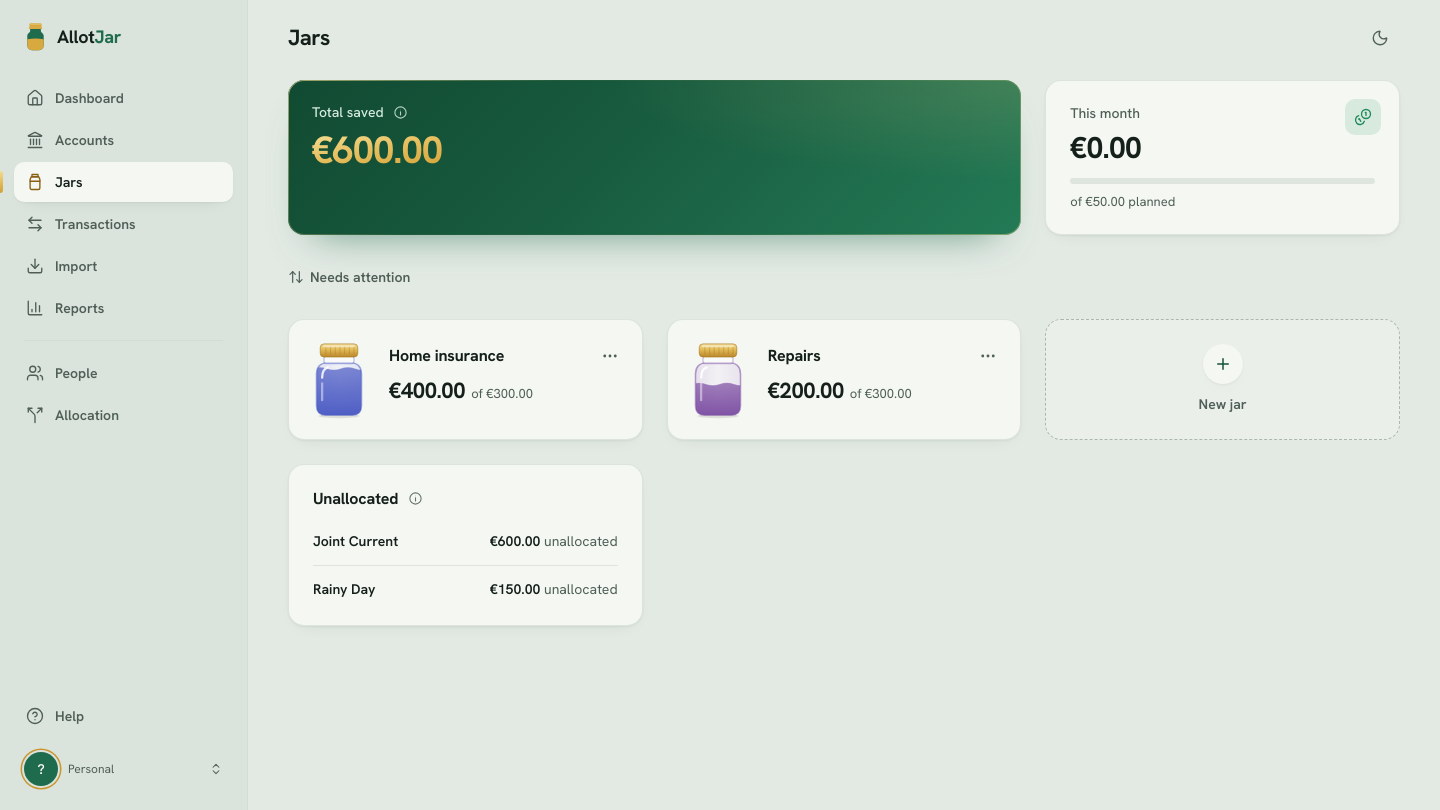
Test: JarsPage — Move money across accounts (rule 80) › shows the server's message verbatim when the transfer is refused (rules 68/74)
This screenshot has width=1440, height=810.
Click the button named "Home insurance: more actions": [610, 356] box [590,336,630,376]
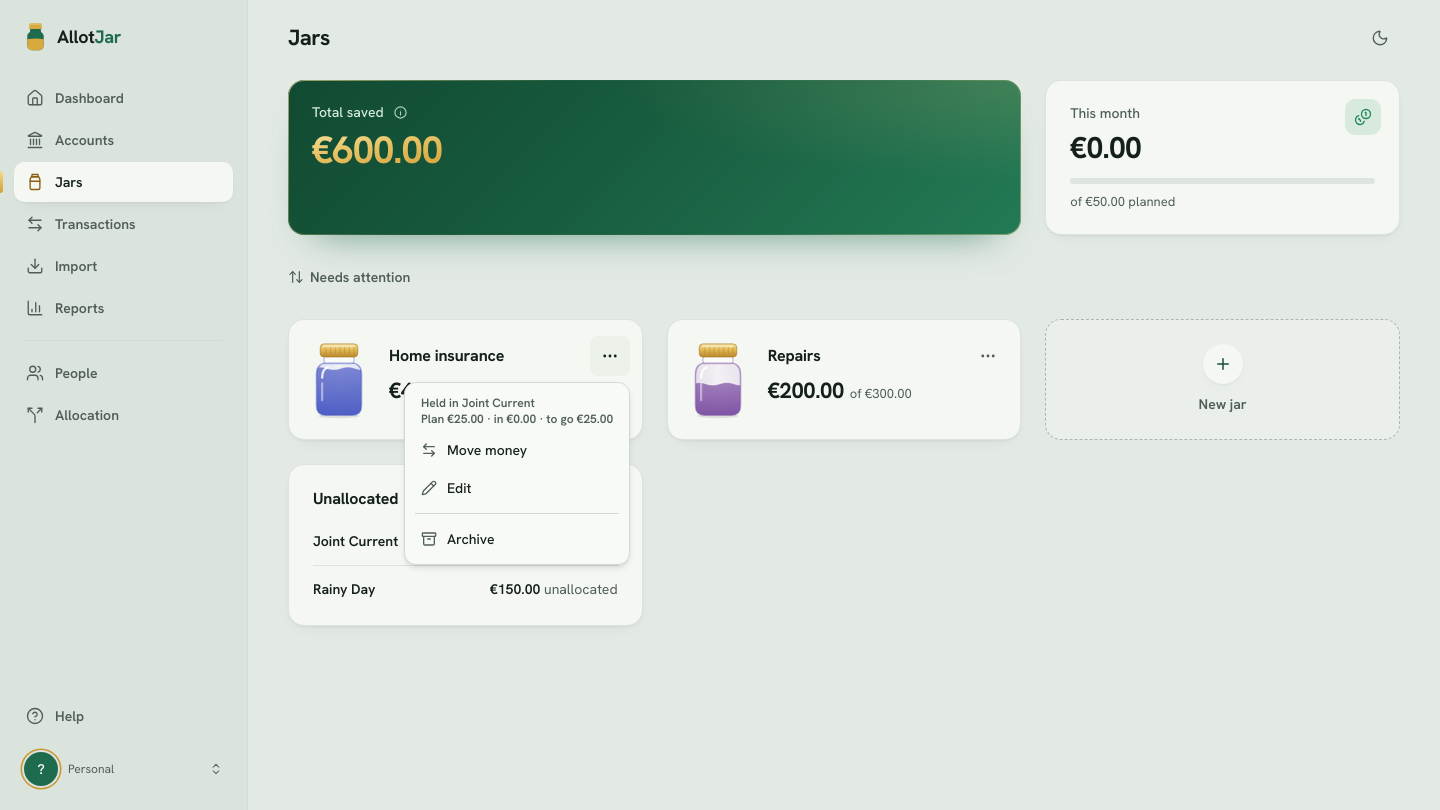
Click the menu item "Move money": [474, 450] box [421,441,527,459]
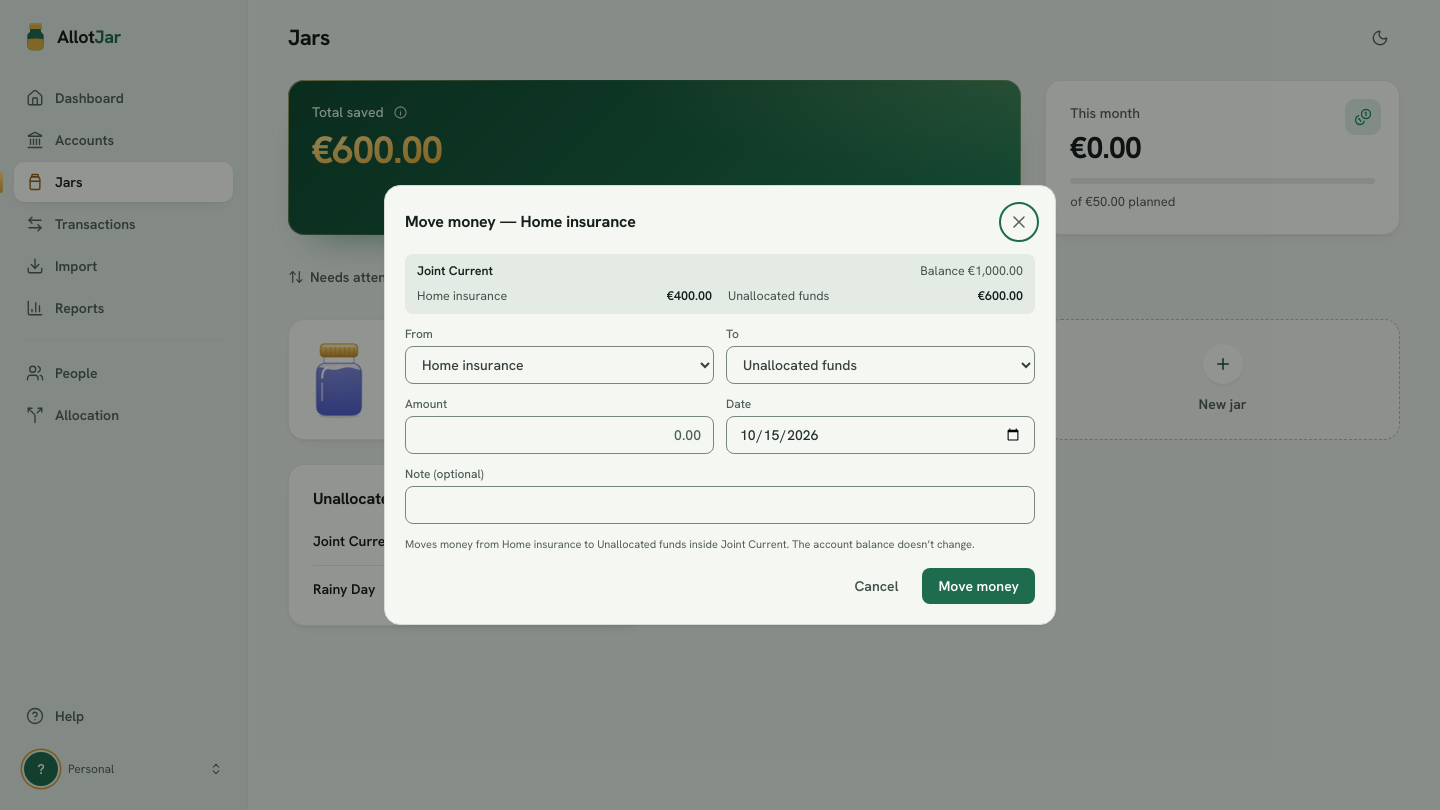
Now the dropdown named "Move from" is shown, box [405,346,714,384]
Select "Repairs" in the dropdown named "Move to": [880, 364] box [726,346,1035,384]
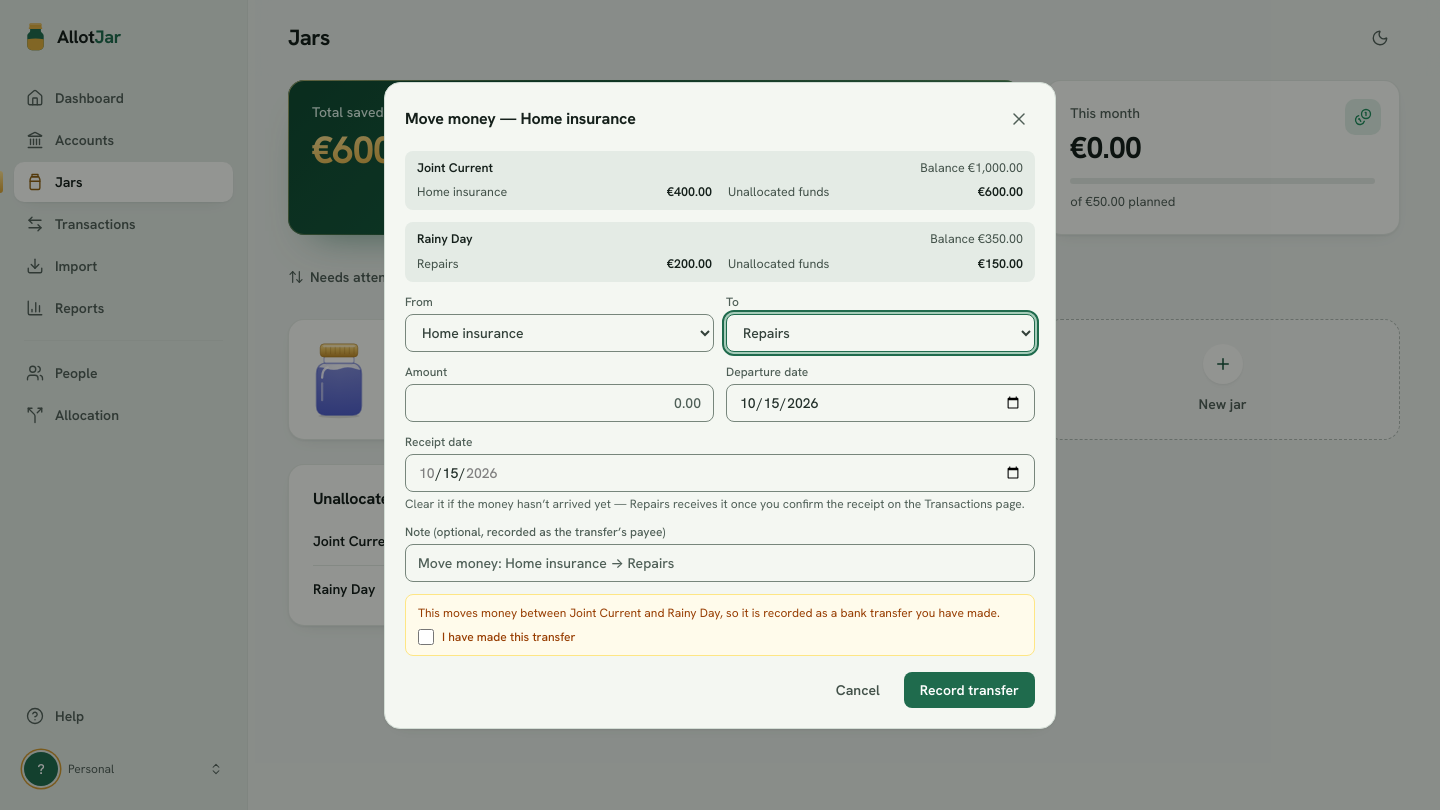
In the field named "Move amount": [560, 402] box [405,384,714,422], type "500"
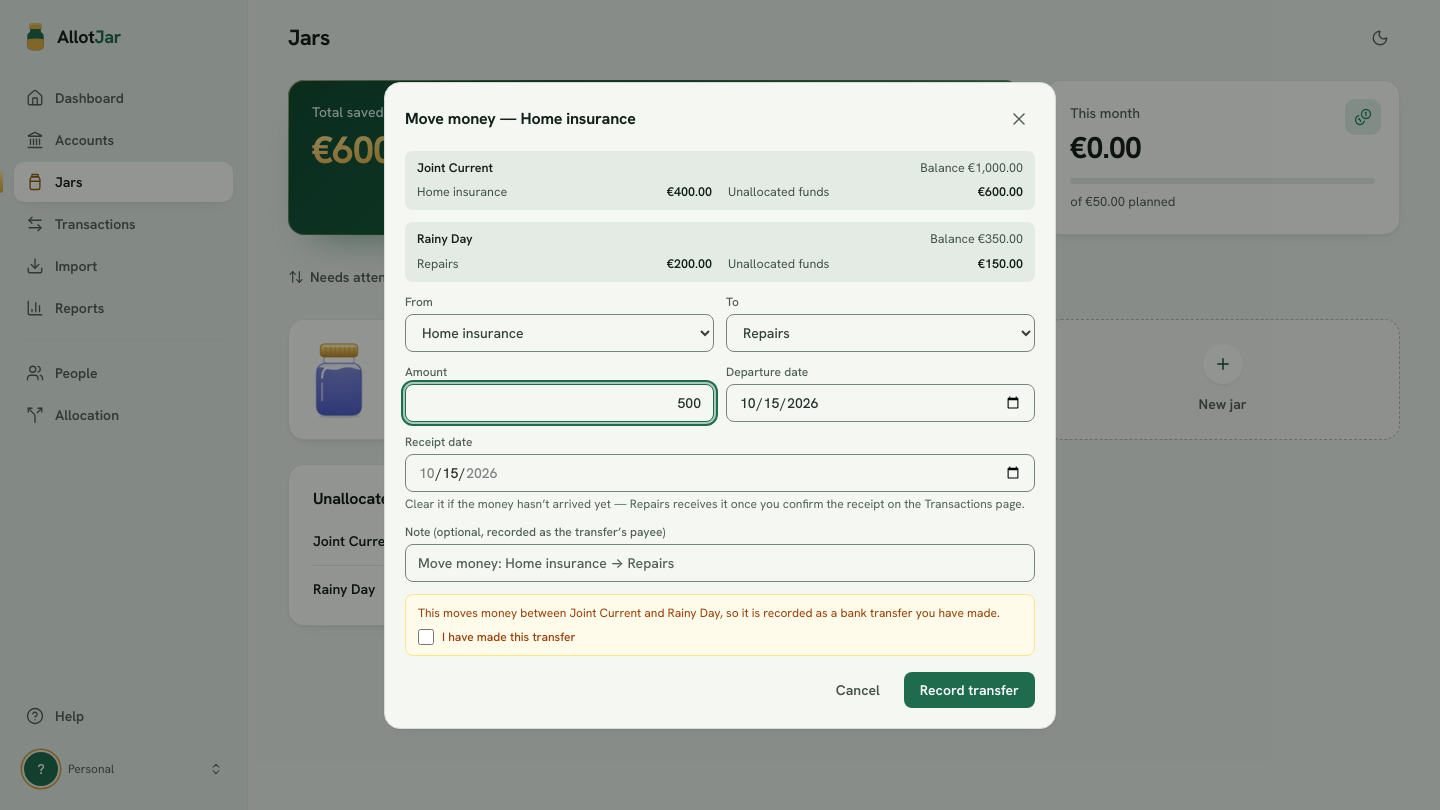
Click the checkbox labelled "I have made this transfer": [426, 636] box [418,628,434,644]
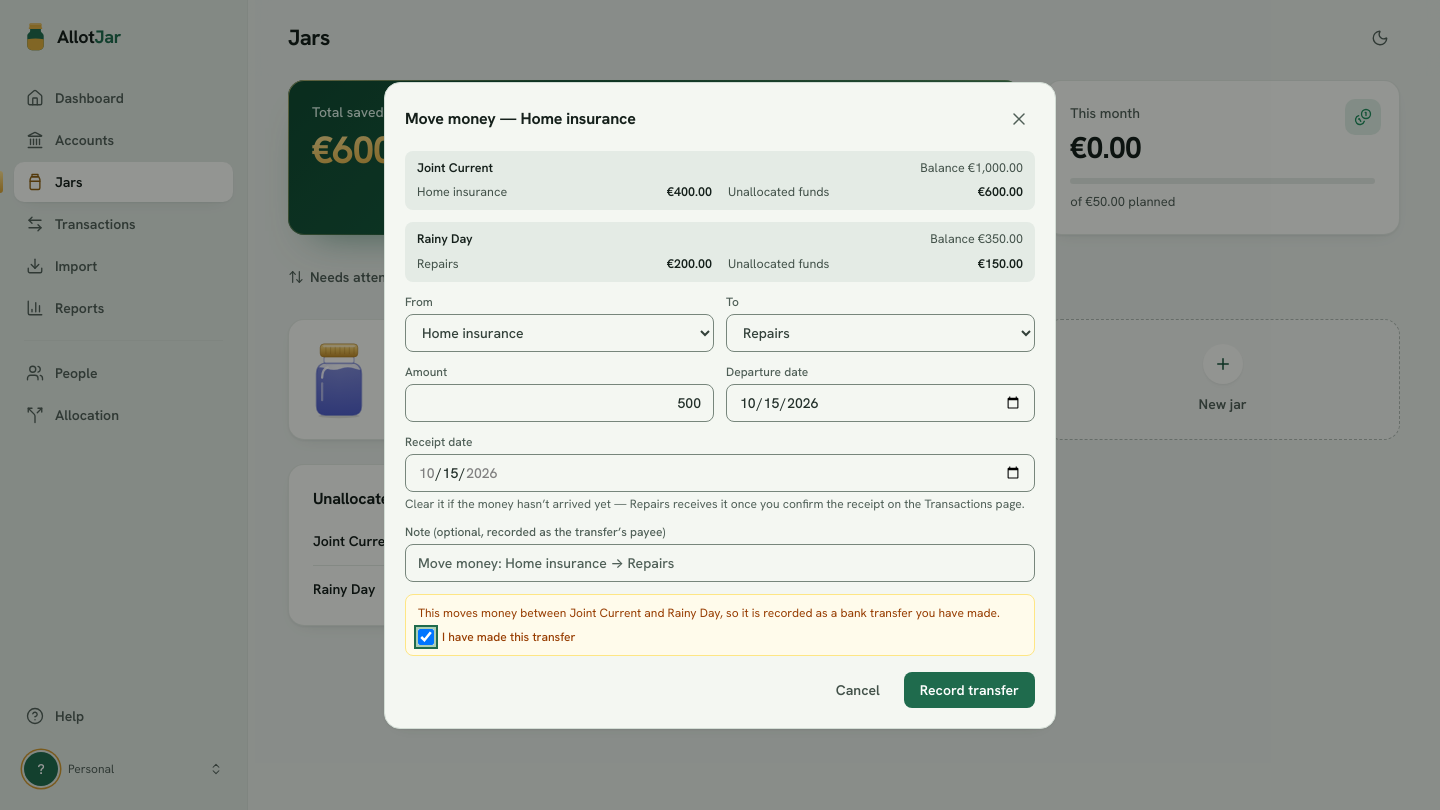
Click the button "Record transfer": [969, 690] box [904,672,1035,708]
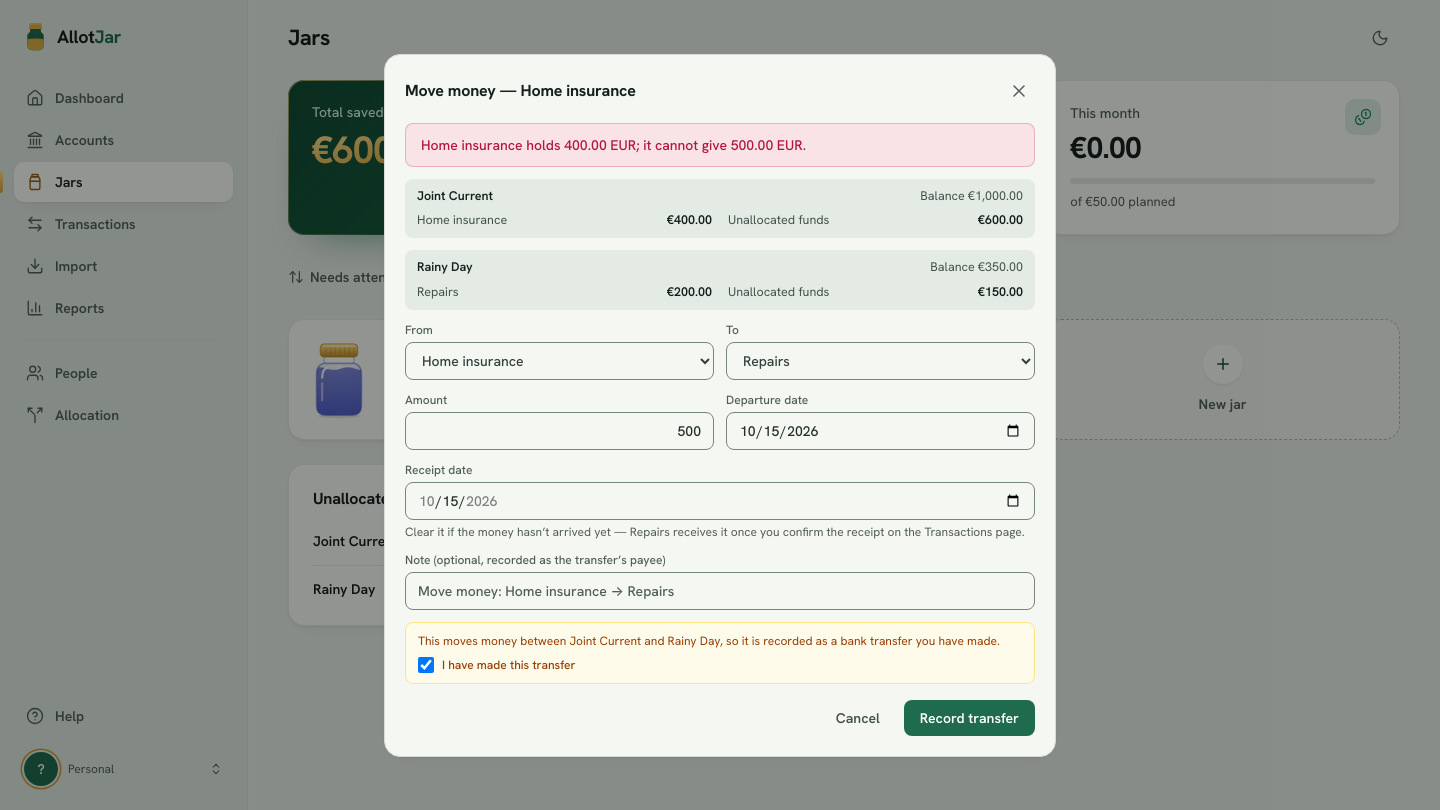
Now the dialog is shown, box [384,54,1056,756]
Now the text "Home insurance holds 400.00 EUR; it cannot give 500.00 EUR." is shown, box [405,122,1035,166]
